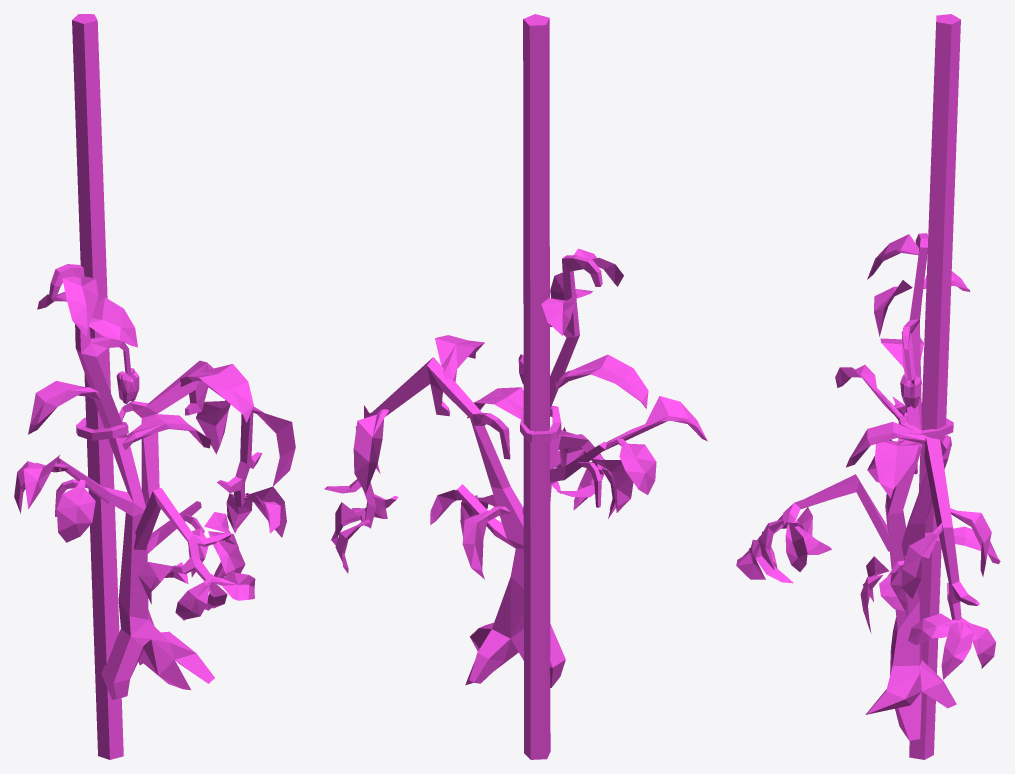
Rendered from SM_Bellpepper_Dead_Harvested.fbx.
3 renders of one model, left to right at view 1: azimuth 30°, elevation 25°; view 2: azimuth 150°, elevation 25°; view 3: azimuth 270°, elevation 25°, orthographic. The views are drawn at different scales.
Parts seen in each view (by area): view 1: SM_Bellpepper_Dead_Harvested; view 2: SM_Bellpepper_Dead_Harvested; view 3: SM_Bellpepper_Dead_Harvested.
Part boxes in pixels (left/top/right/bottom): SM_Bellpepper_Dead_Harvested: left=14, top=14, right=295, bottom=759; SM_Bellpepper_Dead_Harvested: left=324, top=14, right=707, bottom=759; SM_Bellpepper_Dead_Harvested: left=736, top=14, right=1000, bottom=759.
Size of the model in its own units: 0.9209 by 2.07 by 0.6784.
